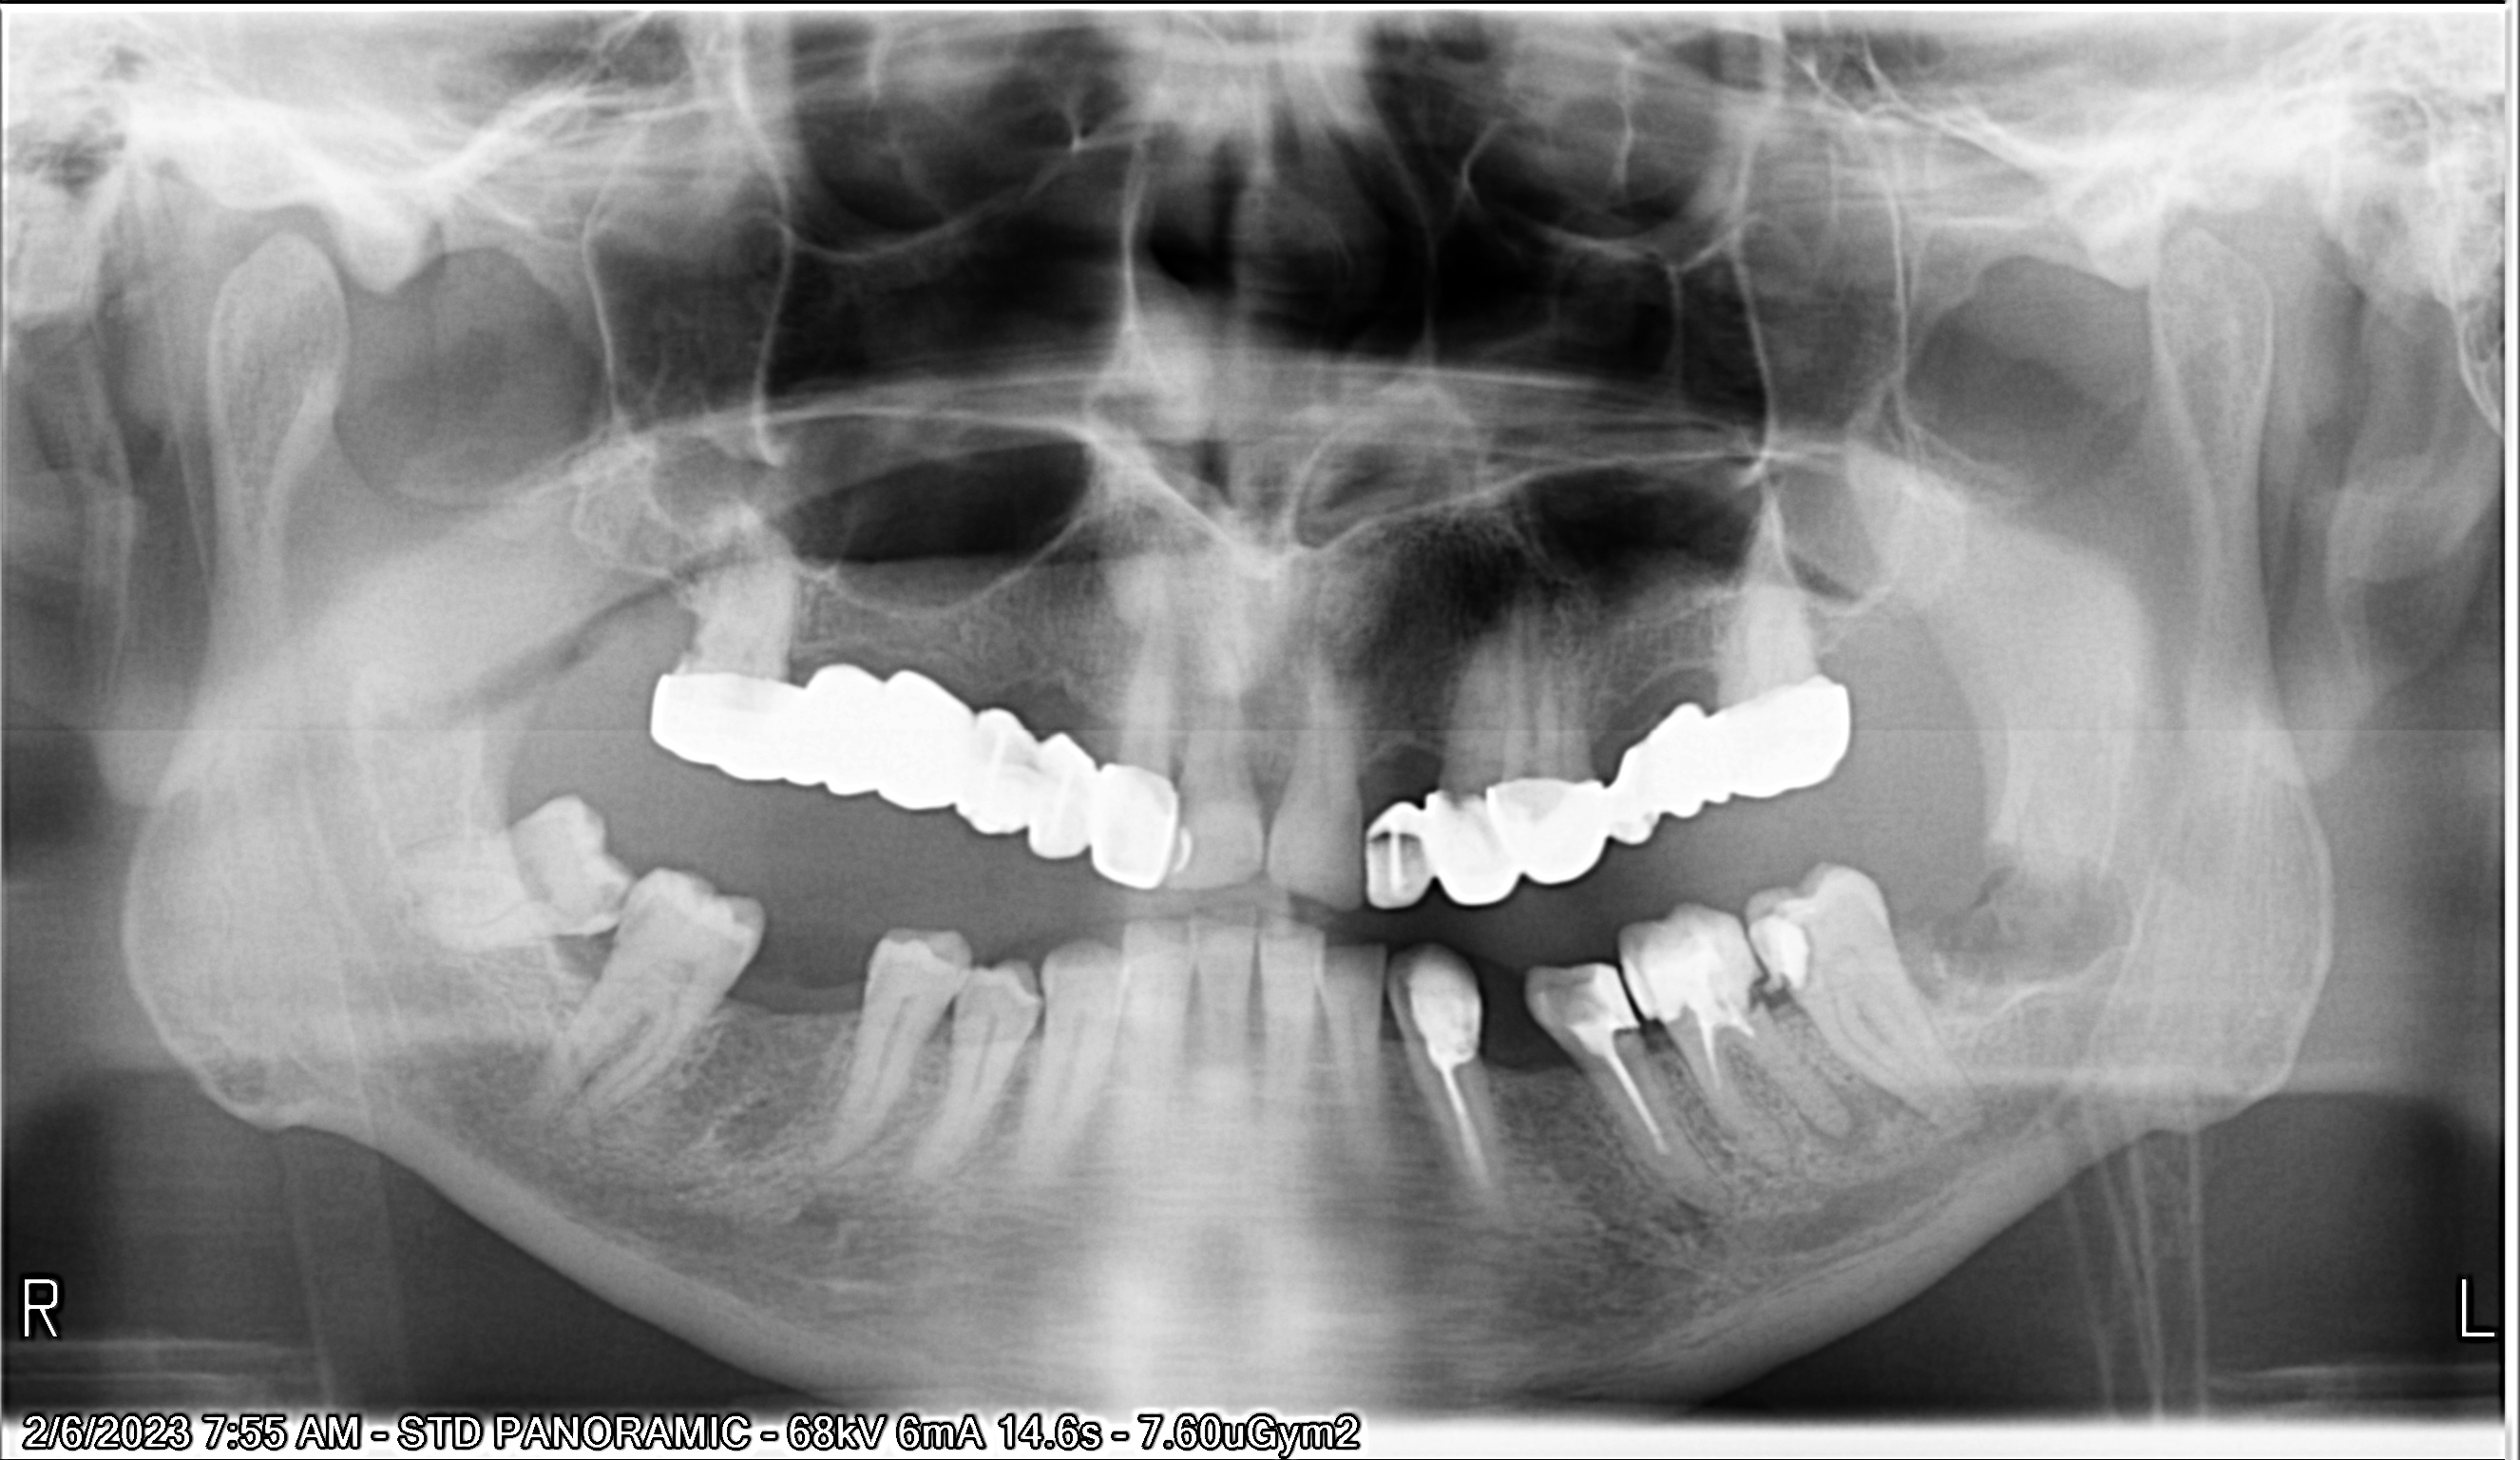BON: (1049, 667, 1143, 772), (644, 554, 721, 676), (542, 904, 636, 1003), (768, 607, 877, 687), (1339, 714, 1417, 820), (1874, 928, 1961, 1015), (691, 952, 775, 1038), (1223, 753, 1309, 831), (1655, 636, 1733, 720), (1528, 1020, 1598, 1095), (808, 970, 886, 1034)
END: (1579, 1025, 1678, 1173), (1426, 1053, 1509, 1206), (1685, 991, 1761, 1131)
OBT: (1613, 906, 1738, 1022), (1395, 940, 1499, 1065), (1740, 893, 1817, 999), (1553, 952, 1631, 1050)
PRR: (1360, 773, 1613, 918), (802, 659, 978, 813), (643, 657, 809, 786), (966, 706, 1092, 859), (1719, 671, 1851, 803), (1089, 766, 1181, 904), (1645, 697, 1725, 813), (1603, 742, 1667, 855)
